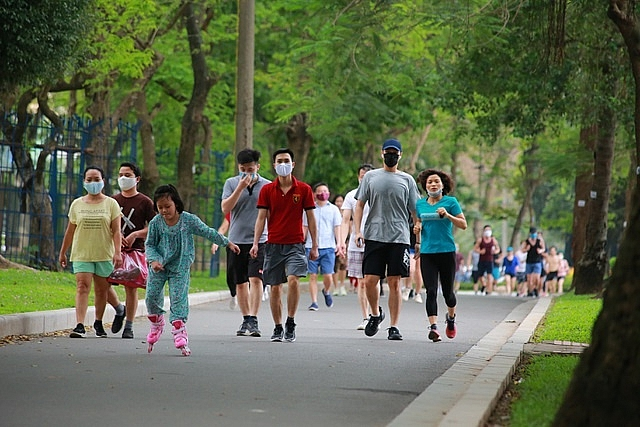person: (136, 180, 242, 355), (247, 142, 324, 344), (349, 133, 422, 343), (56, 161, 125, 343), (216, 137, 274, 344), (410, 165, 470, 345), (102, 156, 158, 340), (336, 161, 386, 336), (301, 177, 342, 312), (520, 220, 547, 303), (473, 222, 501, 298)
